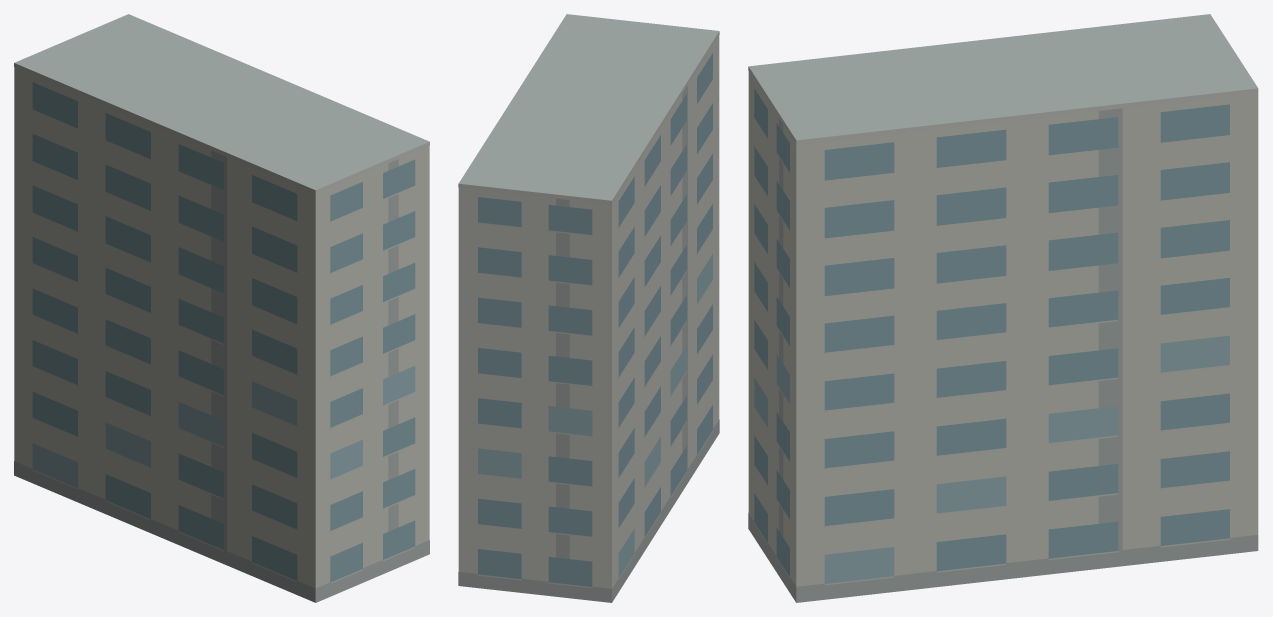
The model's file is survey-upis-33003707.glb.
The picture shows the model from 3 angles, left to right: view 1: azimuth 30°, elevation 25°; view 2: azimuth 150°, elevation 25°; view 3: azimuth 270°, elevation 25°; orthographic projection. The views are drawn at different scales.
Visible parts, largest first — view 1: survey-upis-33003707.tmp; view 2: survey-upis-33003707.tmp; view 3: survey-upis-33003707.tmp.
Boxes of the visible parts, x1=… form: survey-upis-33003707.tmp: x1=14, y1=14, x2=429, y2=602; survey-upis-33003707.tmp: x1=458, y1=14, x2=719, y2=602; survey-upis-33003707.tmp: x1=748, y1=14, x2=1258, y2=602.
Bounding box in the file's own units: 14.31 × 24.4 × 24.39.
